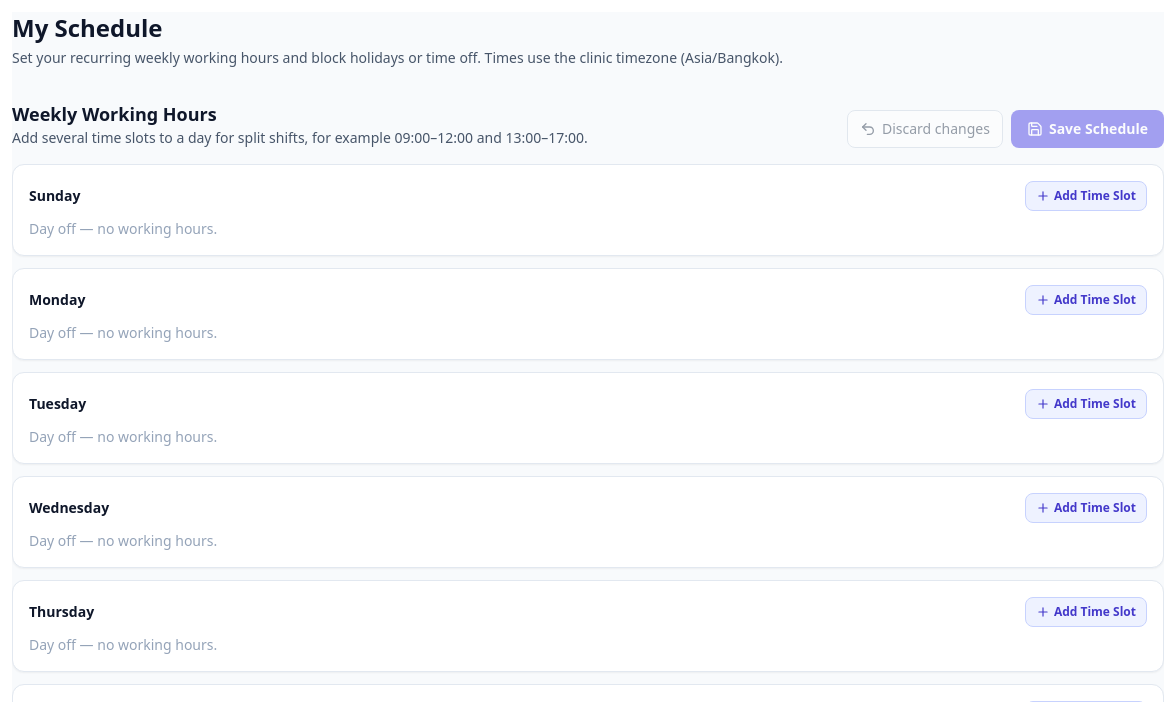
Test: Weekly Recurring Schedule Editor (/doctor/schedule) › adding slots builds a split shift: 09:00–12:00 then 13:00–17:00
The width and height of the screenshot is (1176, 702).
Click the button with aria-label "Add time slot for Wednesday". click: (1086, 508)
box: [1025,493,1147,523]
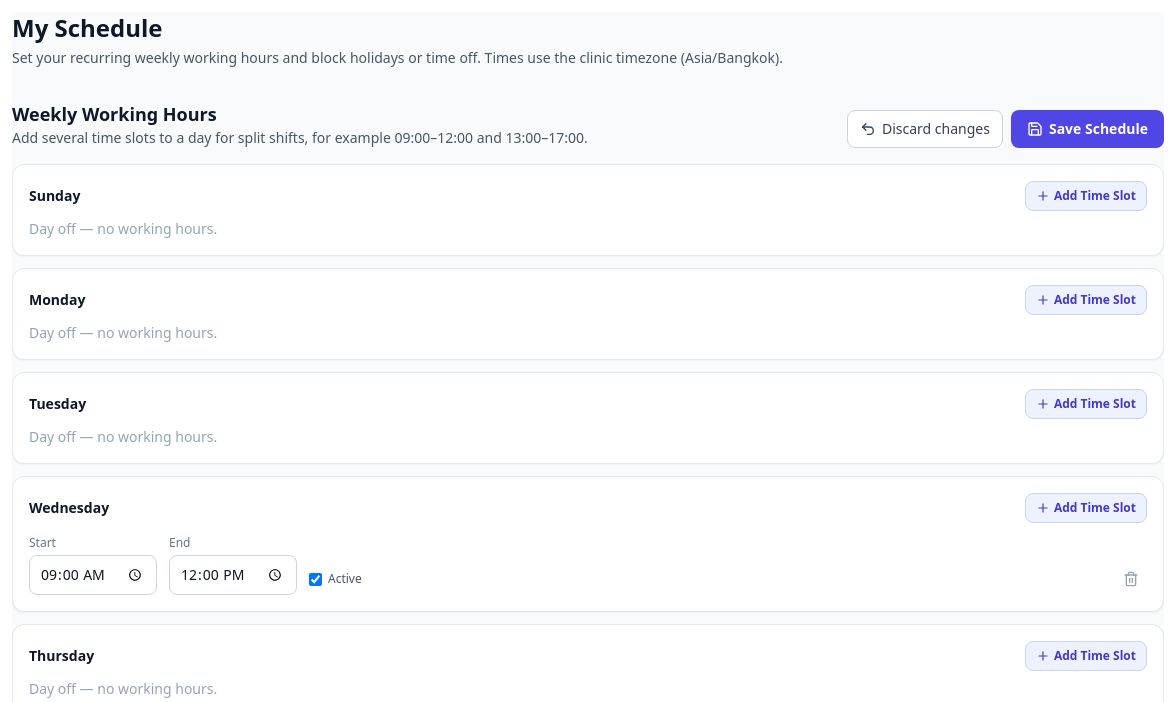
Now the time field named "Wednesday slot 1 start time" holds "09:00", box [29,555,157,595]
Now the time field named "Wednesday slot 1 end time" holds "12:00", box [169,555,297,595]
Click the button with aria-label "Add time slot for Wednesday". click: (1086, 508)
box: [1025,493,1147,523]
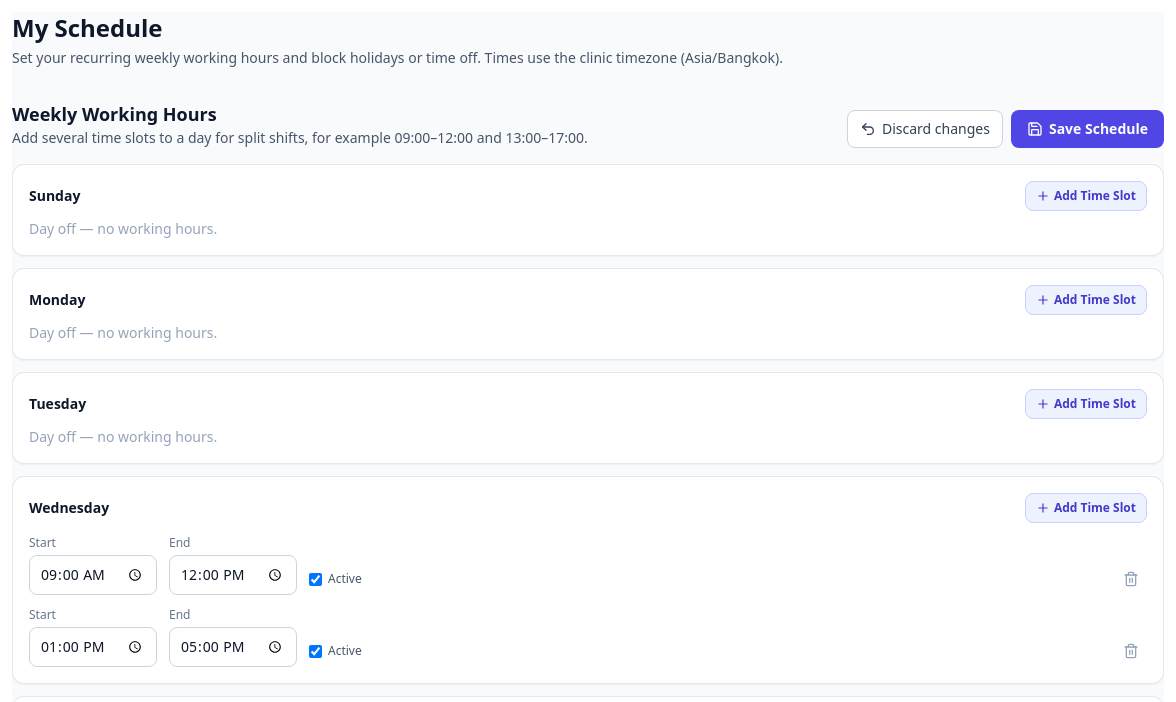
Now the button "Save Schedule" is enabled, box [1011,110,1164,148]
Now the time field named "Wednesday slot 2 start time" holds "13:00", box [29,627,157,667]
Now the time field named "Wednesday slot 2 end time" holds "17:00", box [169,627,297,667]
